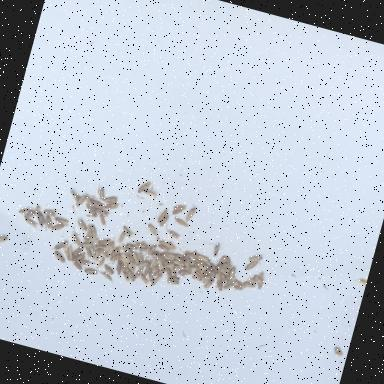pbw: (116, 266, 134, 284), (82, 202, 100, 220), (33, 210, 49, 230), (94, 268, 114, 284), (113, 258, 128, 278), (136, 179, 152, 196), (154, 207, 168, 225), (150, 271, 164, 289), (76, 258, 97, 270), (246, 253, 264, 267), (214, 278, 229, 294), (120, 226, 137, 240), (104, 200, 121, 214), (22, 208, 39, 222), (51, 216, 70, 228), (216, 260, 232, 274), (145, 224, 161, 238), (41, 214, 55, 230), (136, 272, 152, 286), (60, 246, 74, 262), (52, 250, 68, 264), (184, 206, 196, 224), (210, 242, 222, 260), (146, 242, 158, 260), (151, 266, 166, 280), (244, 259, 259, 273), (75, 220, 90, 234), (74, 194, 87, 210), (101, 194, 118, 206), (157, 213, 169, 230), (226, 266, 237, 284), (126, 270, 140, 284), (49, 221, 64, 234), (201, 277, 214, 292), (84, 234, 99, 247), (96, 236, 112, 248), (176, 268, 192, 280), (93, 208, 110, 219), (206, 262, 220, 275), (118, 252, 132, 265), (96, 214, 109, 228), (222, 280, 235, 294), (101, 264, 116, 276), (143, 187, 159, 198), (91, 248, 102, 264), (134, 265, 145, 281), (174, 218, 190, 229), (105, 242, 115, 259), (71, 235, 84, 248), (110, 244, 122, 258), (82, 248, 94, 262), (120, 244, 134, 256), (224, 274, 236, 288), (72, 245, 84, 259), (172, 203, 187, 214), (66, 246, 76, 262), (82, 266, 98, 276), (142, 261, 152, 277), (90, 200, 106, 210), (169, 207, 182, 219), (88, 224, 99, 238), (24, 218, 38, 229), (251, 274, 265, 285), (166, 229, 180, 240), (190, 272, 204, 283), (131, 253, 142, 267), (192, 258, 209, 267), (96, 256, 106, 271), (97, 248, 112, 258), (216, 254, 226, 269), (166, 275, 182, 284), (72, 260, 84, 272), (200, 273, 212, 285), (109, 252, 121, 264), (166, 266, 178, 278), (102, 240, 114, 252), (188, 249, 201, 260), (231, 278, 244, 289), (148, 257, 158, 271), (42, 208, 56, 218), (196, 268, 210, 278), (242, 280, 256, 290), (125, 242, 139, 252), (146, 268, 156, 282), (92, 242, 106, 252), (156, 243, 170, 253), (84, 225, 94, 239), (182, 258, 192, 272), (17, 207, 31, 217), (197, 255, 212, 264), (166, 240, 177, 252), (332, 347, 344, 358), (118, 258, 130, 269), (163, 261, 176, 271), (166, 278, 180, 287), (192, 270, 206, 279), (139, 246, 153, 255), (171, 259, 185, 268), (96, 187, 105, 201), (154, 259, 164, 271), (218, 272, 228, 284), (137, 260, 149, 270), (163, 266, 173, 278), (69, 192, 81, 202), (0, 232, 8, 246), (80, 242, 94, 250), (150, 252, 164, 260), (196, 264, 207, 274), (88, 247, 98, 258), (84, 196, 94, 207), (135, 253, 145, 264), (172, 254, 184, 263), (128, 262, 137, 274), (163, 252, 175, 261), (245, 276, 258, 284), (158, 240, 171, 248), (174, 264, 186, 272), (118, 232, 126, 244), (34, 205, 42, 217), (134, 243, 147, 250), (189, 264, 199, 273), (258, 270, 266, 281), (214, 272, 222, 282), (182, 252, 190, 262), (232, 286, 243, 292), (173, 252, 184, 258)
